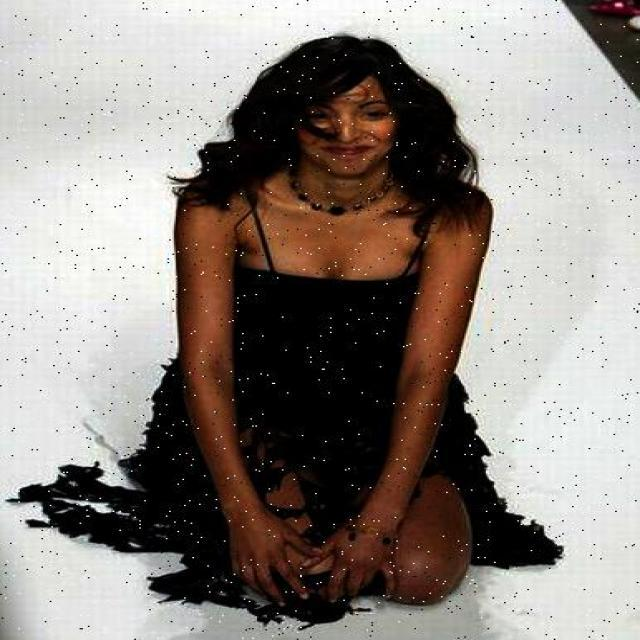fall: (151, 43, 562, 622)
